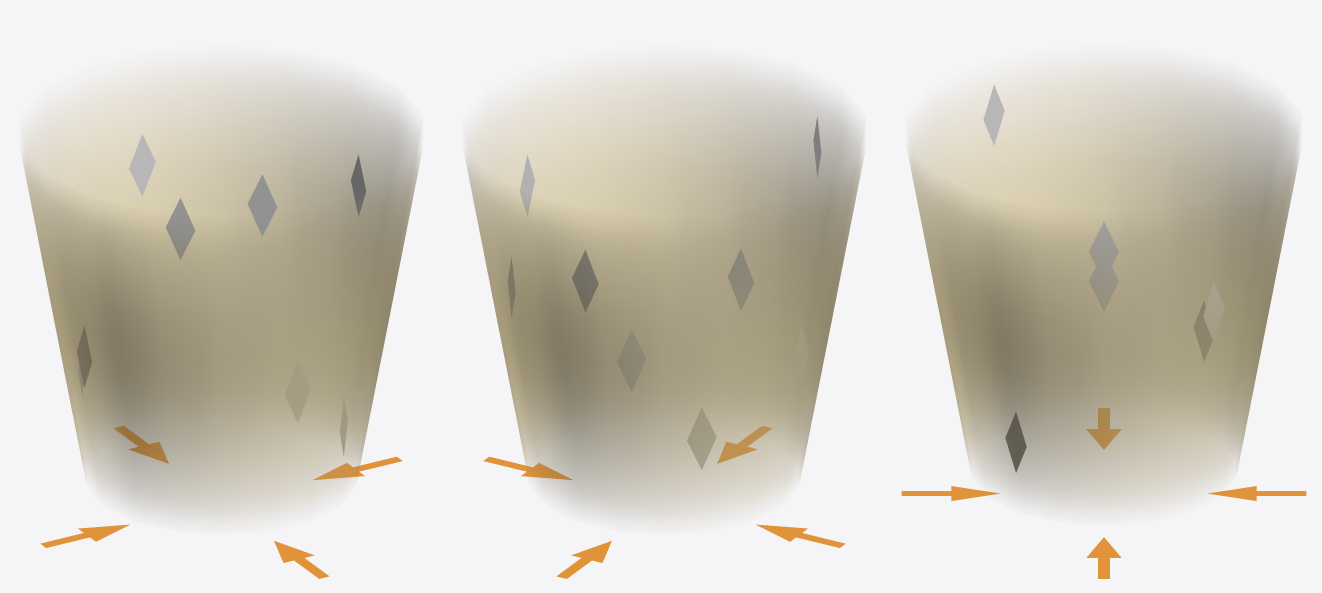
The model's file is fujing_xz.5d91c30.glb.
3 renders of one model, left to right at view 1: azimuth 30°, elevation 25°; view 2: azimuth 150°, elevation 25°; view 3: azimuth 270°, elevation 25°, orthographic.
Parts seen in each view (by area): view 1: Box012, 星点003, Plane004; view 2: Box012, 星点003, Plane004; view 3: Box012, 星点003, Plane004.
Part boxes in pixels (x1,y1,x2,y2): Box012: [22, 63, 420, 517]; 星点003: [77, 134, 366, 456]; Plane004: [40, 426, 402, 578]; Box012: [465, 63, 863, 517]; 星点003: [508, 117, 821, 469]; Plane004: [483, 426, 845, 578]; Box012: [908, 62, 1299, 508]; 星点003: [983, 85, 1224, 472]; Plane004: [901, 408, 1306, 578].
Size of the model in its own units: 1.24 by 1.32 by 1.22.
3 materials, 1 textured.
